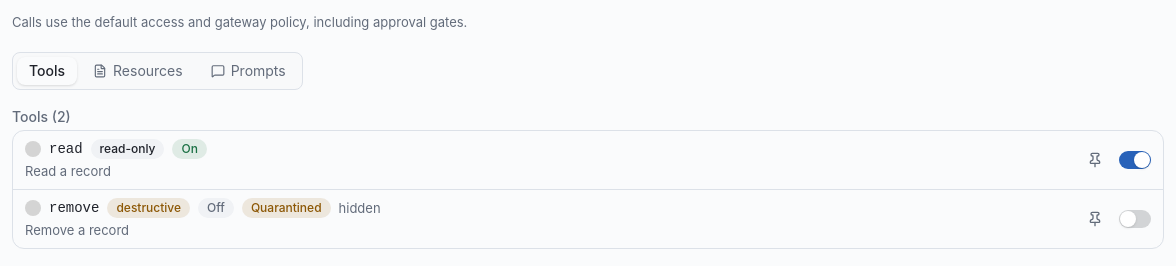
it: server Tools panel › retries a failed resources list in place with the same server id
The width and height of the screenshot is (1176, 266).
Click the button "Resources" at (138, 71), box [81,57,195,85]
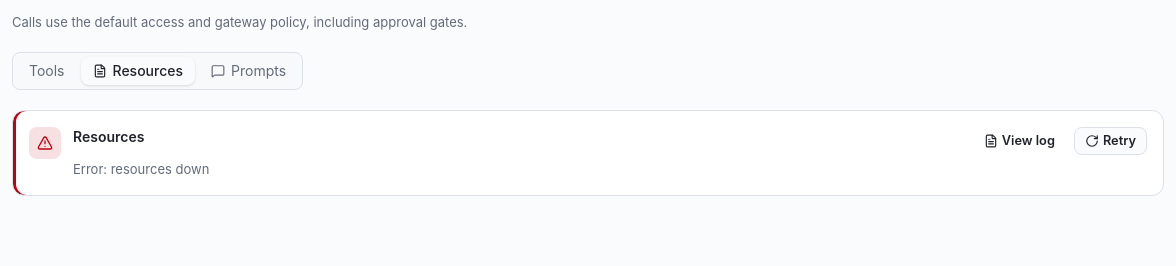
Expected: the text "Error: resources down" is shown, [73,161,209,177]
Click the button "Retry" at (1110, 141), box [1074,127,1147,155]
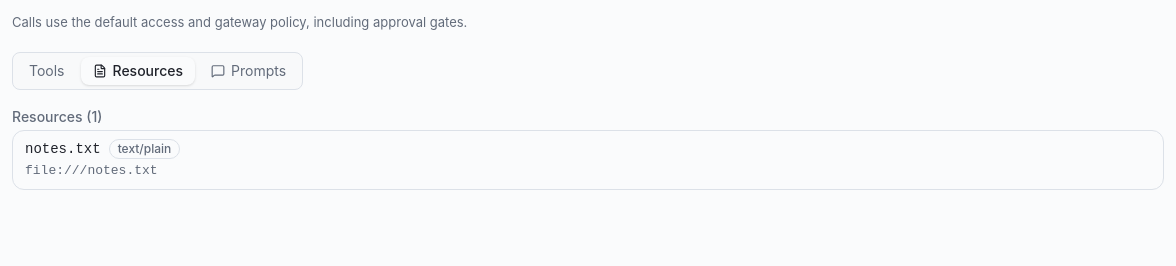
Expected: the text "notes.txt" is shown, [25,139,101,159]
Expected: the text "Error: resources down" is gone
